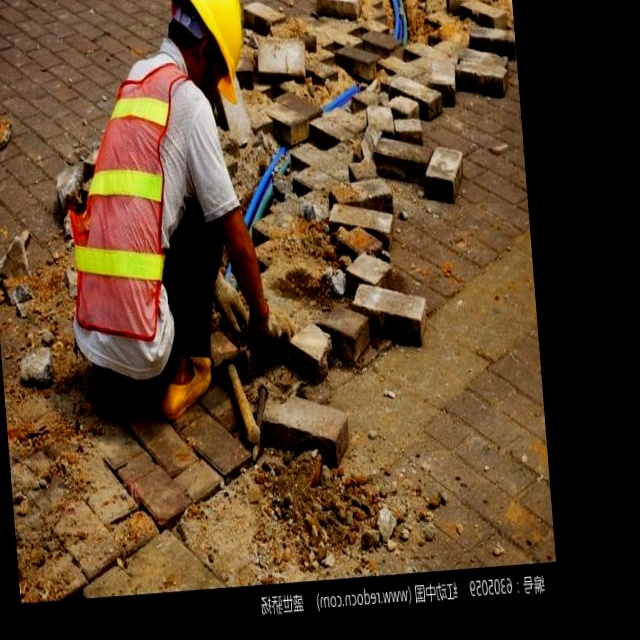Con_Casco: (171, 0, 250, 108)
Con_Chaleco: (54, 61, 223, 366)
